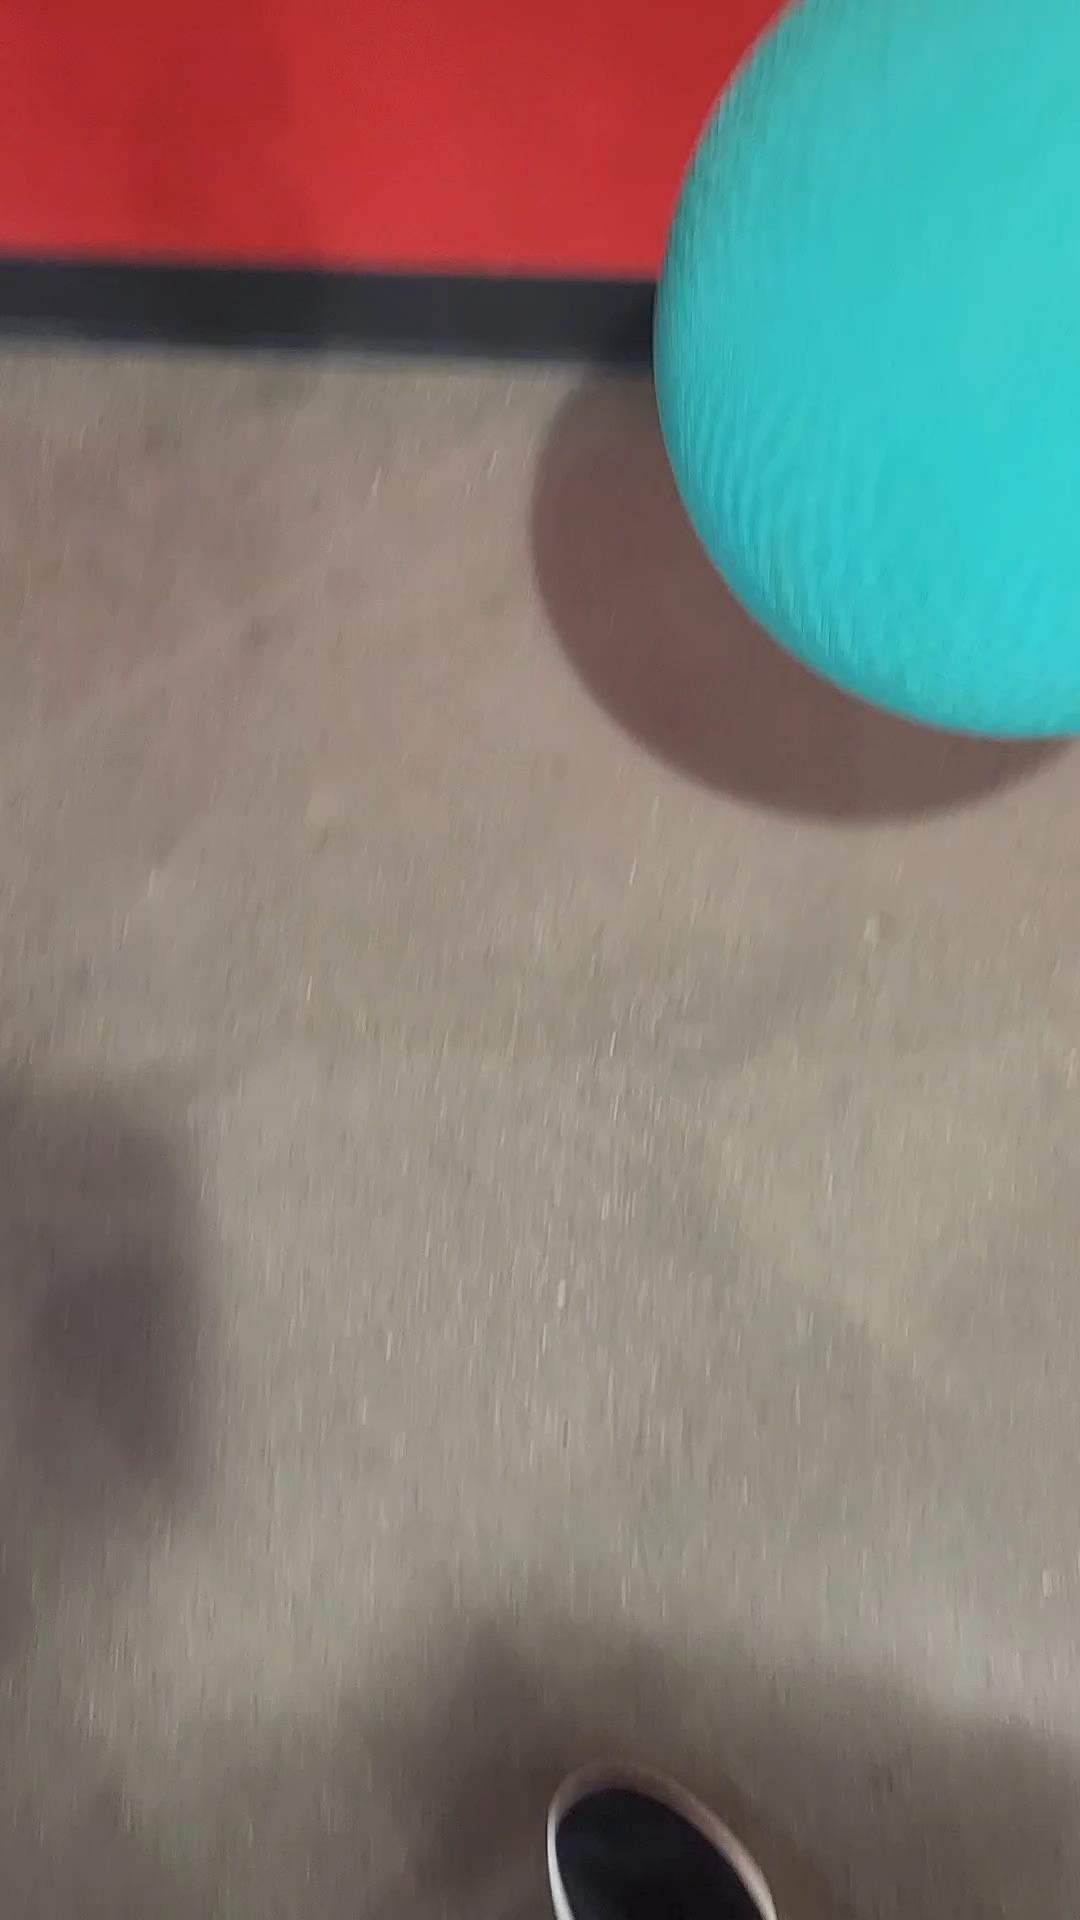algae: (666, 0, 1080, 732)
